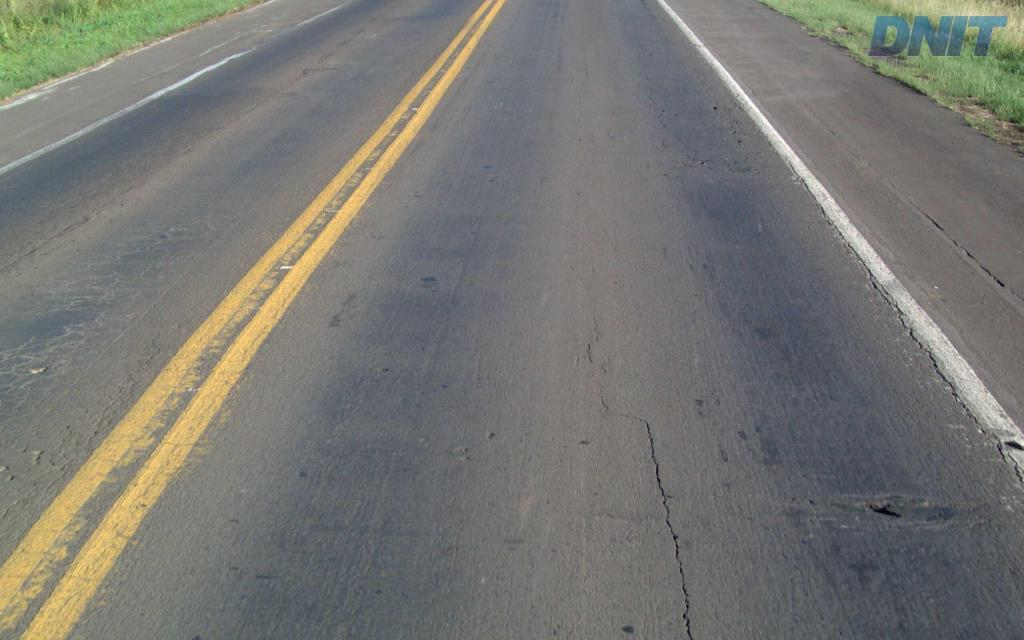crack: (645, 420, 695, 639)
pothole: (855, 496, 909, 520)
